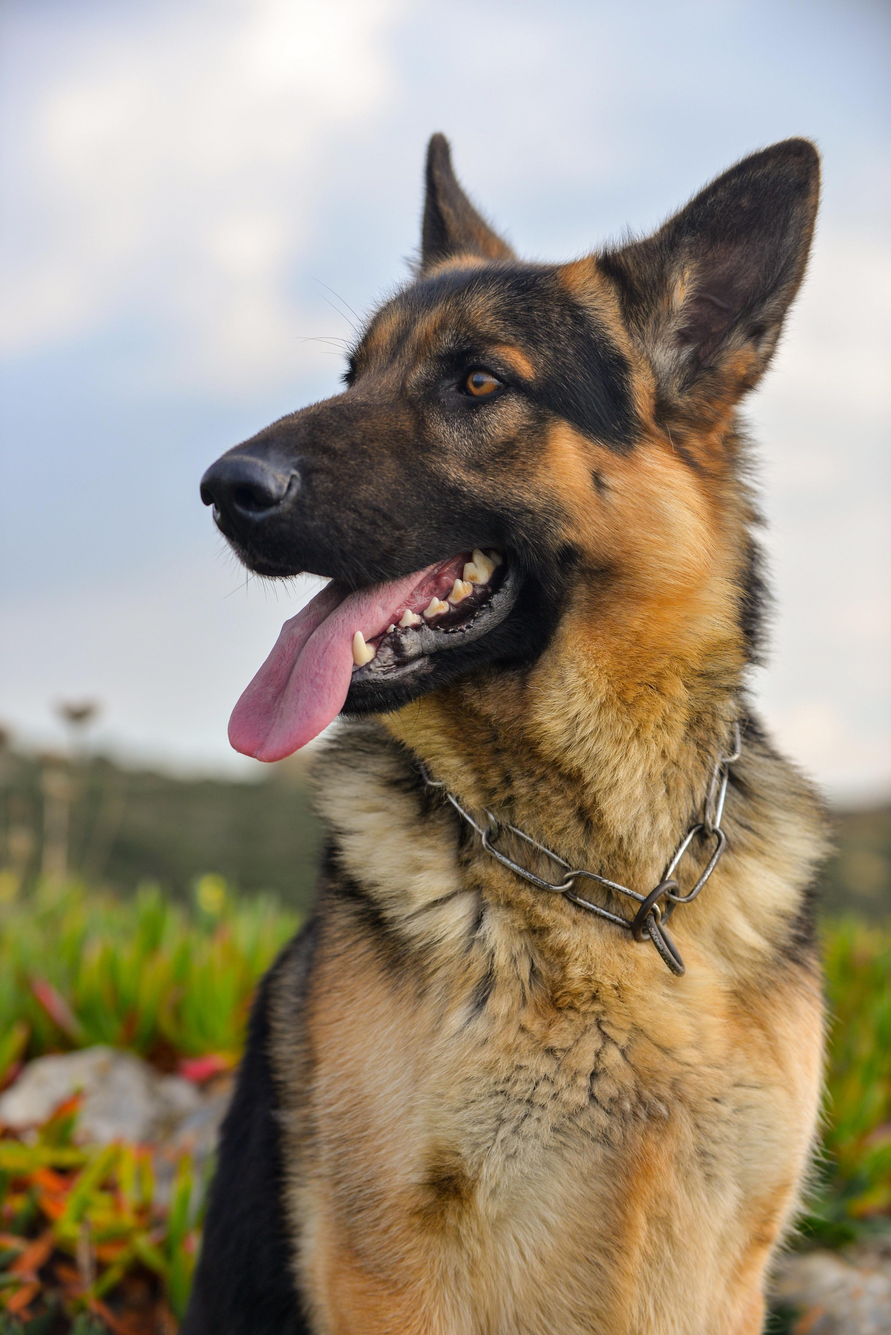german_shepherd: (175, 137, 822, 812)
